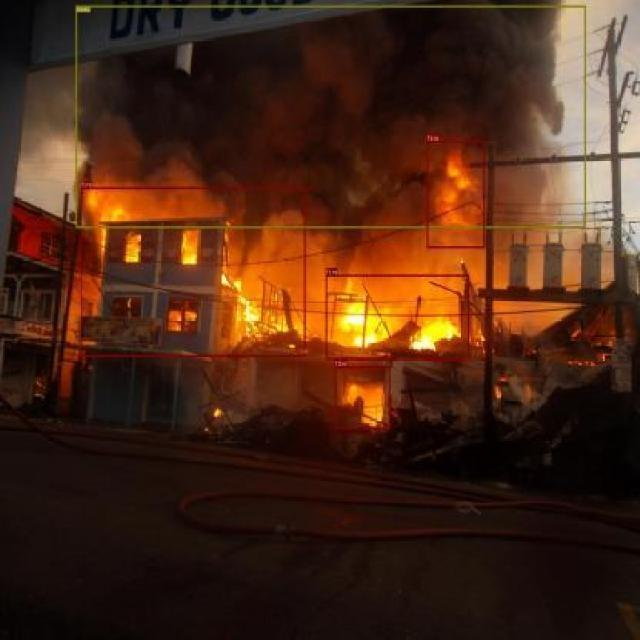fire: (80, 187, 306, 356), (326, 275, 469, 360), (427, 140, 485, 248), (335, 366, 391, 429)
smoke: (76, 5, 587, 228)
